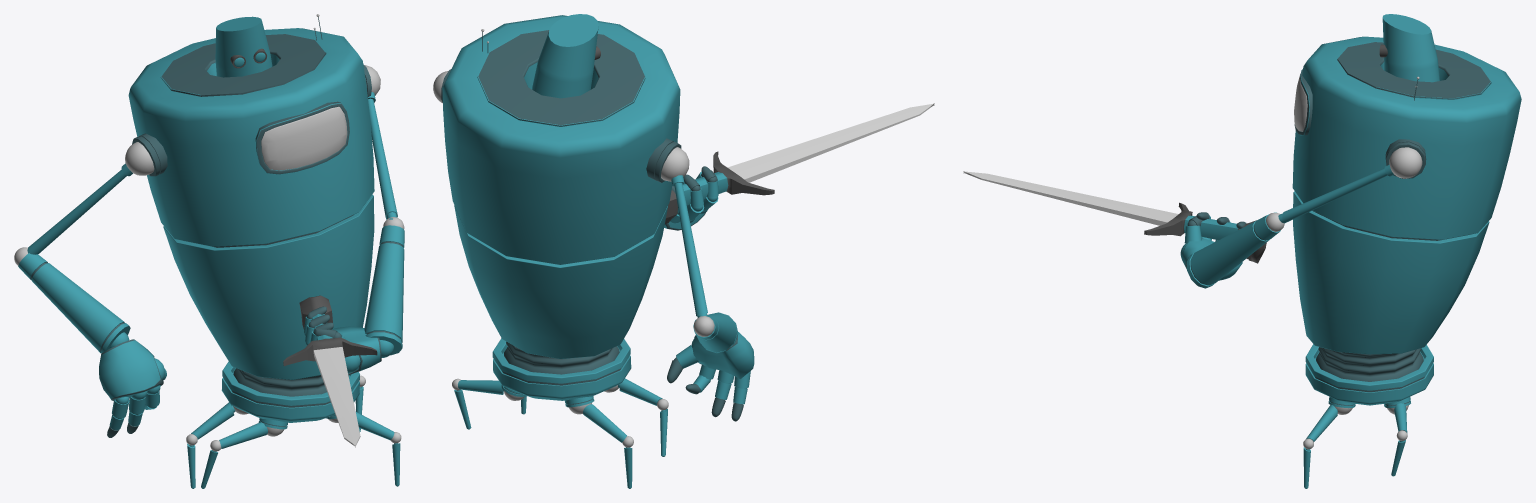
The model's file is OrangeRobotRiggedAnimated.fbx.
3 views of the same model, side by side, from view 1: azimuth 30°, elevation 25°; view 2: azimuth 150°, elevation 25°; view 3: azimuth 270°, elevation 25° (orthographic). The views are drawn at different scales.
Parts seen in each view (by area): view 1: Torso, R_Arm_02, Sword:pCube1, L_Arm_02, Pelvis_Geo, Head1, R_Hand1, R_Arm_01, L_Arm_01, Abs, L_Hand1, R_F_Leg_01 (+3 smaller); view 2: Torso, Sword:pCube1, Head1, Pelvis_Geo, R_Arm_01, Abs, R_Hand1, R_Arm_02, R_B_Leg_01, L_B_Leg_01, R_F_Leg_01; view 3: Torso, Sword:pCube1, Pelvis_Geo, Head1, L_Arm_02, Abs, L_Arm_01.
Part boxes in pixels (x1,y1,x2,y2): Torso: (128,14,374,379); R_Arm_02: (14,247,130,353); Sword:pCube1: (283,295,377,446); L_Arm_02: (364,217,404,355); Pelvis_Geo: (221,361,359,429); Head1: (215,16,272,77); R_Hand1: (99,332,163,400); R_Arm_01: (27,142,154,254); L_Arm_01: (364,65,397,219); Abs: (233,368,348,396); L_Hand1: (332,326,393,374); R_F_Leg_01: (219,422,284,448); Torso: (441,15,681,358); Sword:pCube1: (665,103,934,223); Head1: (532,14,600,98); Pelvis_Geo: (492,338,631,407); R_Arm_01: (661,147,707,317); Abs: (504,341,619,374); R_Hand1: (692,332,754,378); R_Arm_02: (693,312,738,353); R_B_Leg_01: (568,403,626,442); L_B_Leg_01: (458,380,524,400); R_F_Leg_01: (604,378,662,405); Torso: (1292,36,1521,354); Sword:pCube1: (964,171,1266,263); Pelvis_Geo: (1305,344,1433,408); Head1: (1379,14,1439,82); L_Arm_02: (1186,212,1284,288); Abs: (1316,347,1423,381); L_Arm_01: (1278,147,1422,223).
Bounding box in the file's own units: 10.89 × 14.79 × 17.67.
